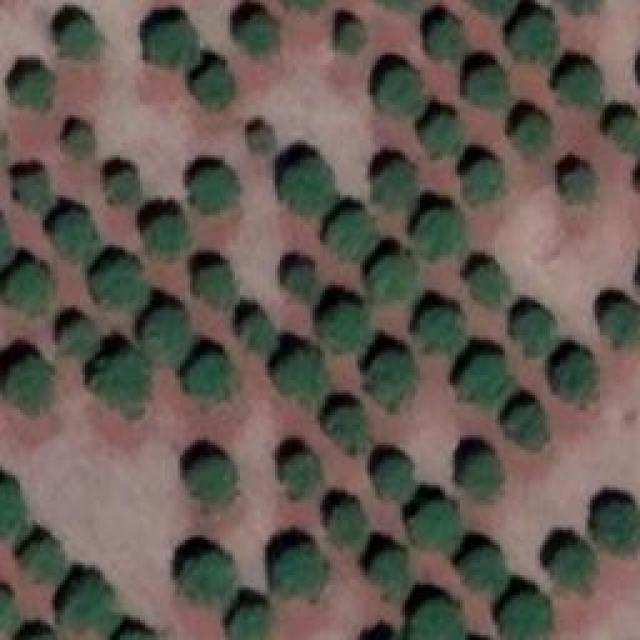Tree: (137, 303, 195, 376), (95, 348, 153, 413), (277, 157, 335, 215), (133, 200, 188, 260), (85, 255, 143, 310), (318, 295, 373, 353), (540, 348, 598, 403), (362, 350, 420, 403), (455, 350, 510, 405), (185, 355, 240, 410), (173, 553, 233, 603), (458, 545, 513, 598), (65, 570, 115, 628), (270, 540, 323, 593), (183, 260, 236, 313), (10, 530, 60, 585), (503, 10, 558, 60), (500, 590, 553, 640), (408, 500, 461, 550), (375, 250, 423, 305), (595, 502, 640, 560), (2, 263, 50, 316), (415, 105, 463, 158), (145, 20, 198, 68), (550, 540, 600, 590), (503, 398, 553, 448), (3, 358, 48, 413), (188, 158, 233, 213), (320, 208, 375, 253), (365, 548, 413, 598), (183, 455, 233, 503), (52, 208, 100, 258), (275, 343, 323, 393), (415, 207, 465, 255), (377, 70, 425, 120), (404, 597, 457, 640), (232, 13, 280, 58), (55, 310, 98, 360), (425, 13, 468, 63), (510, 307, 553, 355), (508, 110, 551, 158), (560, 63, 605, 108), (453, 450, 503, 490), (330, 398, 370, 448), (470, 260, 513, 305), (473, 65, 516, 110), (10, 68, 58, 108), (602, 295, 640, 345), (102, 157, 140, 205), (368, 455, 413, 495), (373, 165, 413, 210), (58, 18, 98, 63), (228, 600, 271, 640), (280, 450, 320, 493), (423, 300, 463, 343), (558, 165, 601, 205), (0, 467, 25, 535), (330, 500, 368, 543), (193, 65, 233, 105), (238, 308, 273, 351), (468, 157, 498, 205), (15, 170, 48, 210), (285, 257, 318, 295), (607, 115, 640, 152), (338, 23, 368, 56), (65, 120, 93, 155), (0, 582, 15, 640), (242, 127, 270, 155)
